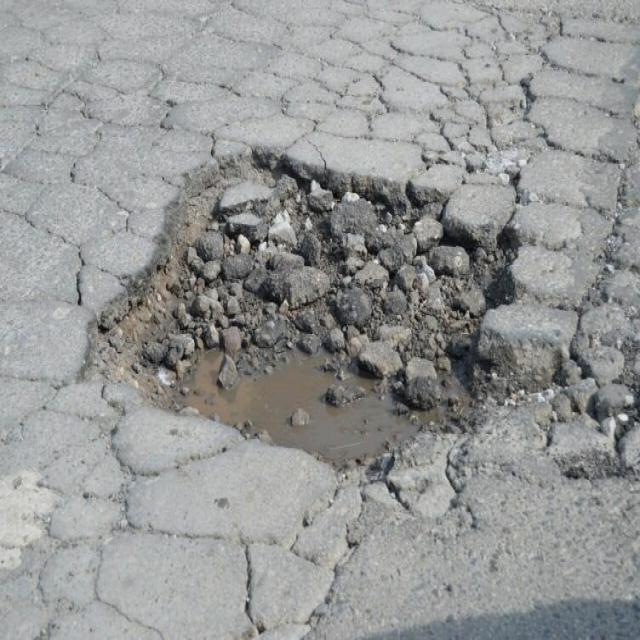Pothole: (75, 145, 525, 470)
